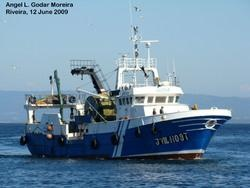otherboat: (19, 2, 233, 160)
